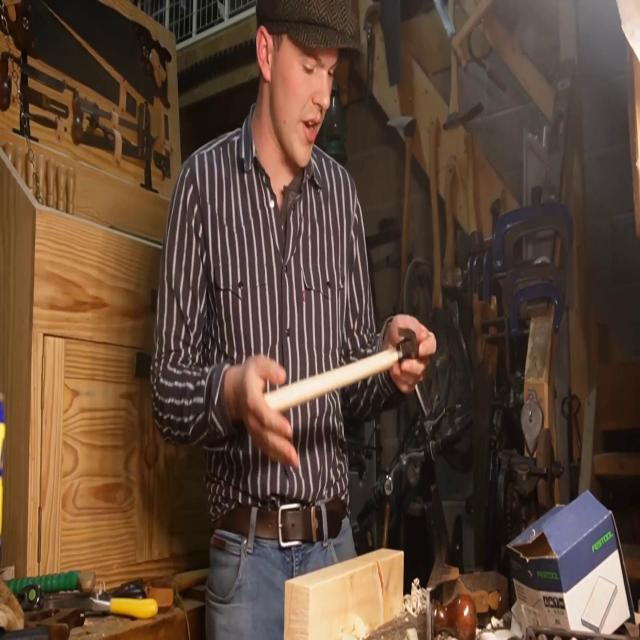hammer: (263, 324, 419, 413)
